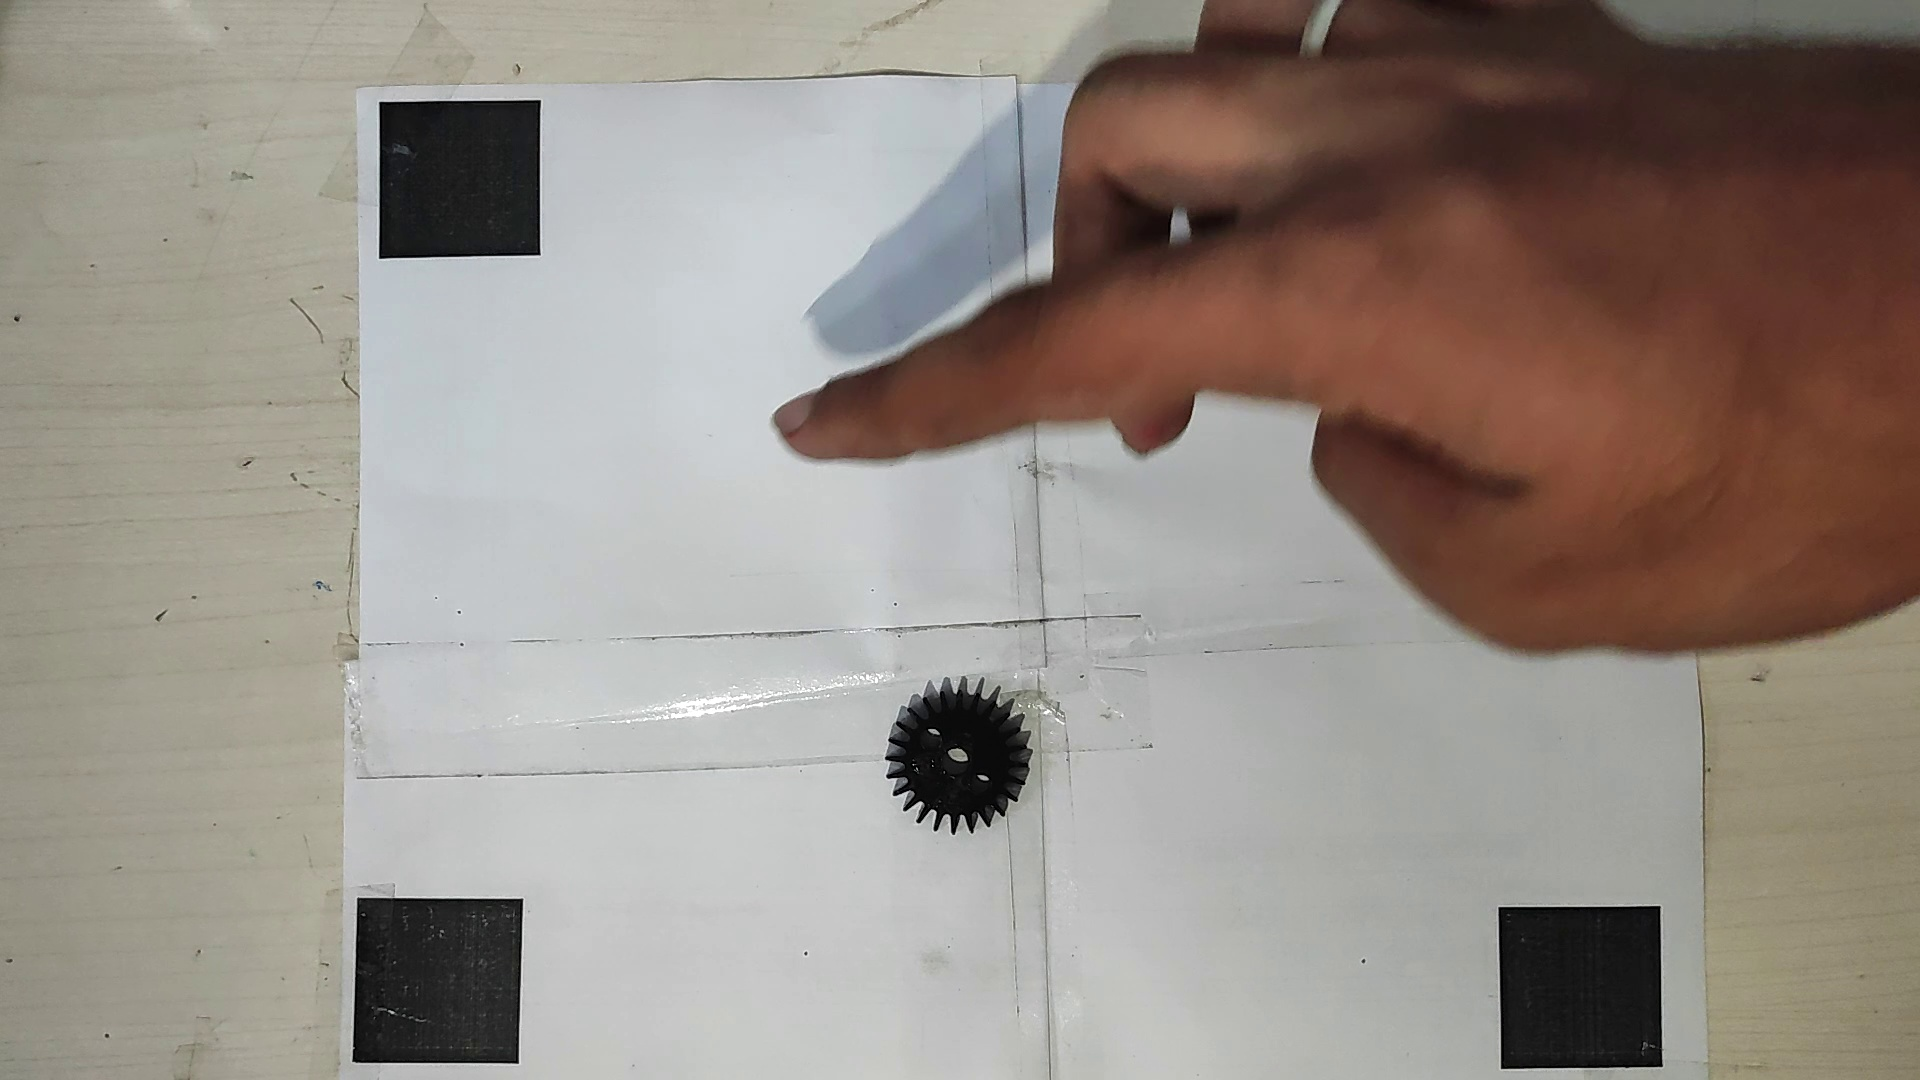Gear: (886, 682, 1034, 840)
